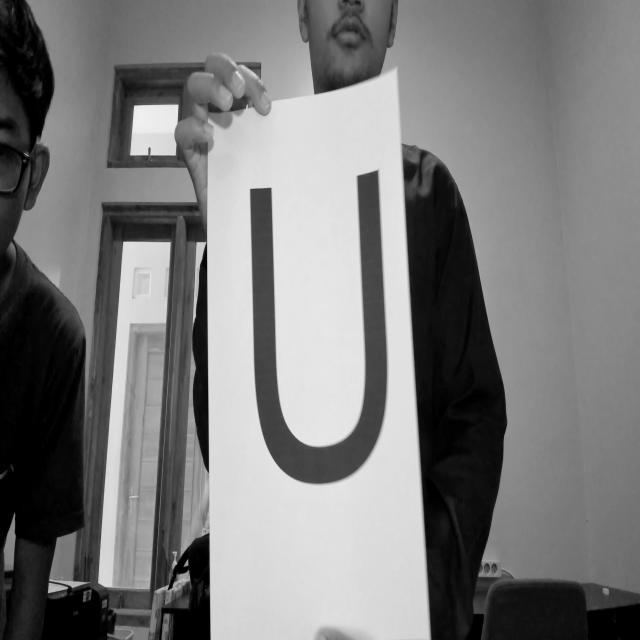u: (226, 137, 417, 500)
